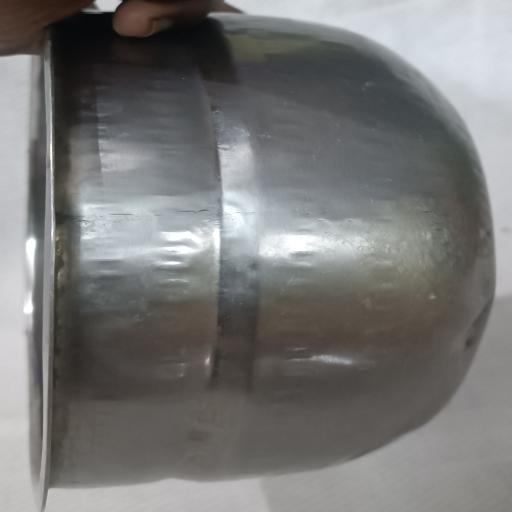vessel: (25, 14, 494, 505)
